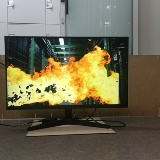fire: (4, 37, 128, 107)
